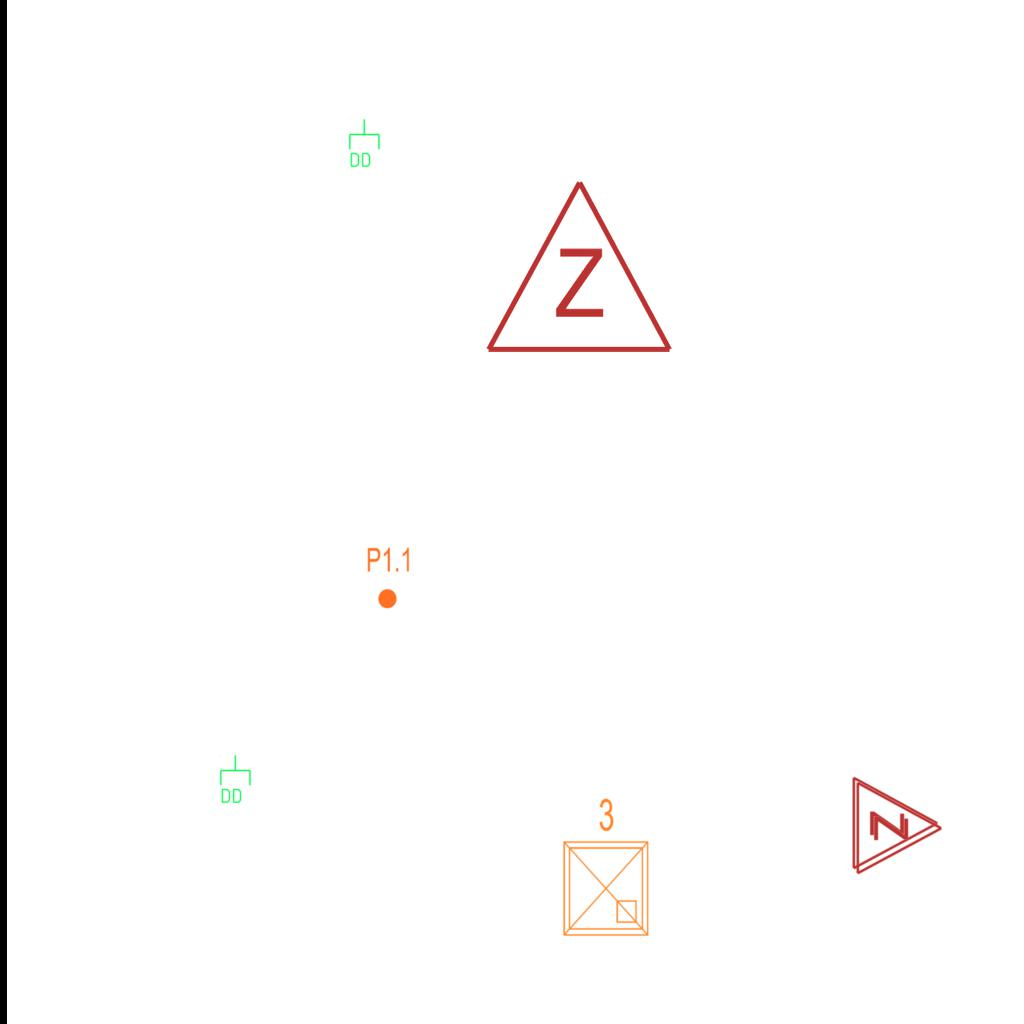Datenanschluss_zweifach: (218, 754, 252, 805), (347, 118, 381, 169)
Downlight_LED_Einbauleuchten_Flur: (366, 546, 412, 610)
Einbaudownlights_LED_Konferenzraeume: (552, 793, 656, 943)
Zimmersignalleuchte: (479, 167, 675, 367), (845, 773, 945, 871), (849, 778, 949, 876)
